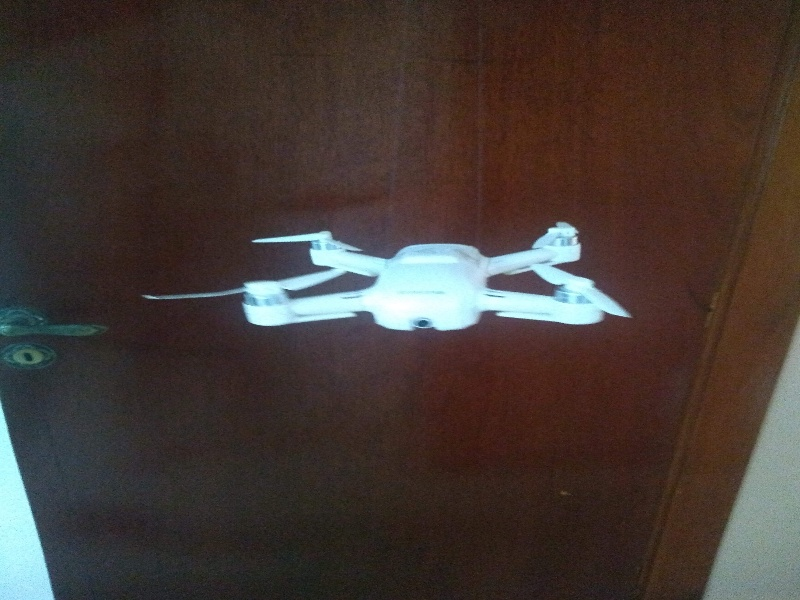drone: (221, 214, 627, 345)
